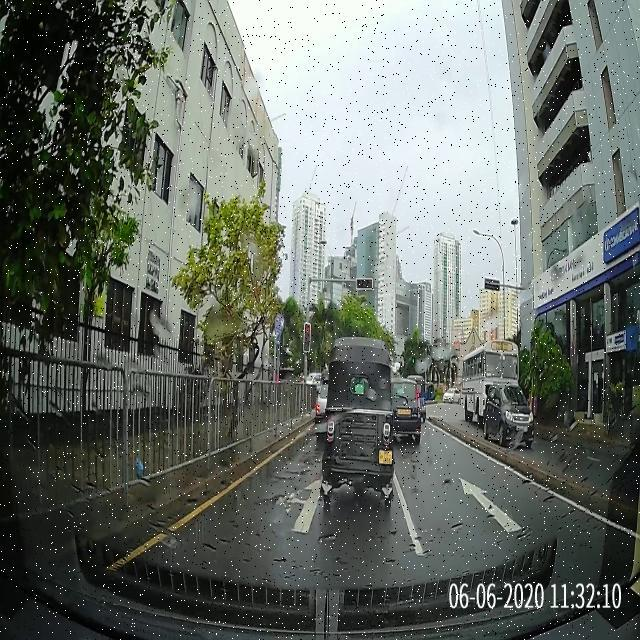forward: (396, 456, 625, 566)
